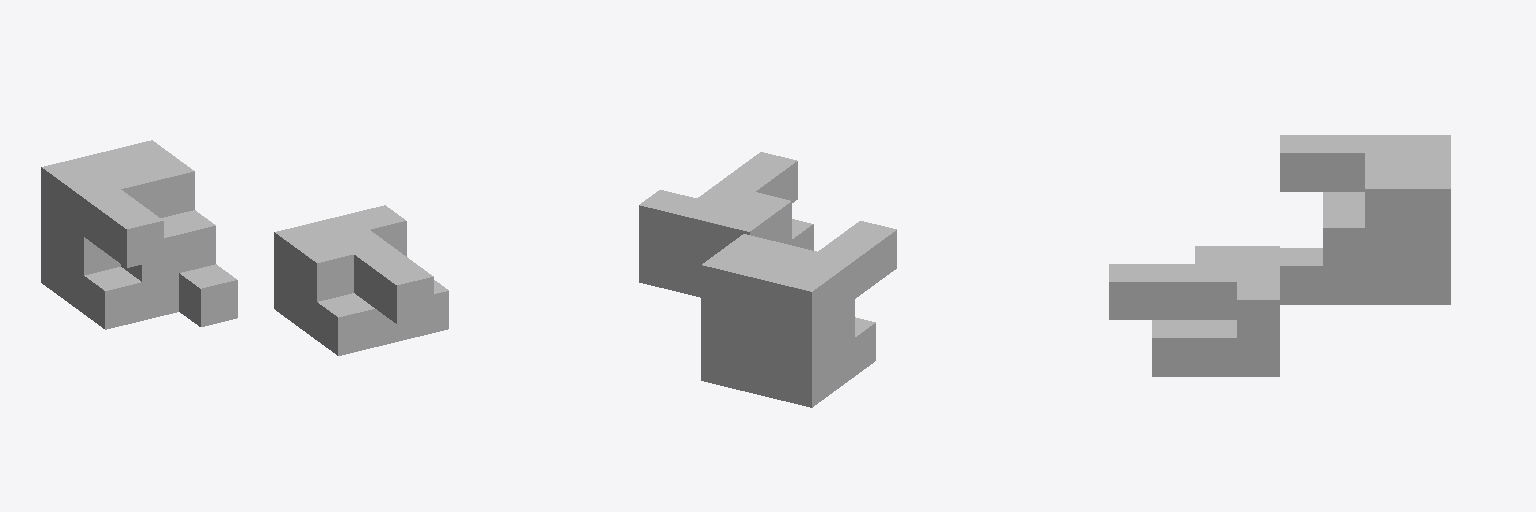
File: nightBerriesWall1-0.obj
The picture shows the model from 3 angles: view 1: azimuth 30°, elevation 25°; view 2: azimuth 150°, elevation 25°; view 3: azimuth 270°, elevation 25°; orthographic projection.
Visible parts, largest first — view 1: object 1; view 2: object 1; view 3: object 1.
Part boxes in pixels (bbox=[...]): object 1: bbox=[41, 140, 448, 355]; object 1: bbox=[639, 152, 896, 407]; object 1: bbox=[1109, 135, 1450, 376].
Size of the model in its own units: 0.7 by 0.3 by 0.8.